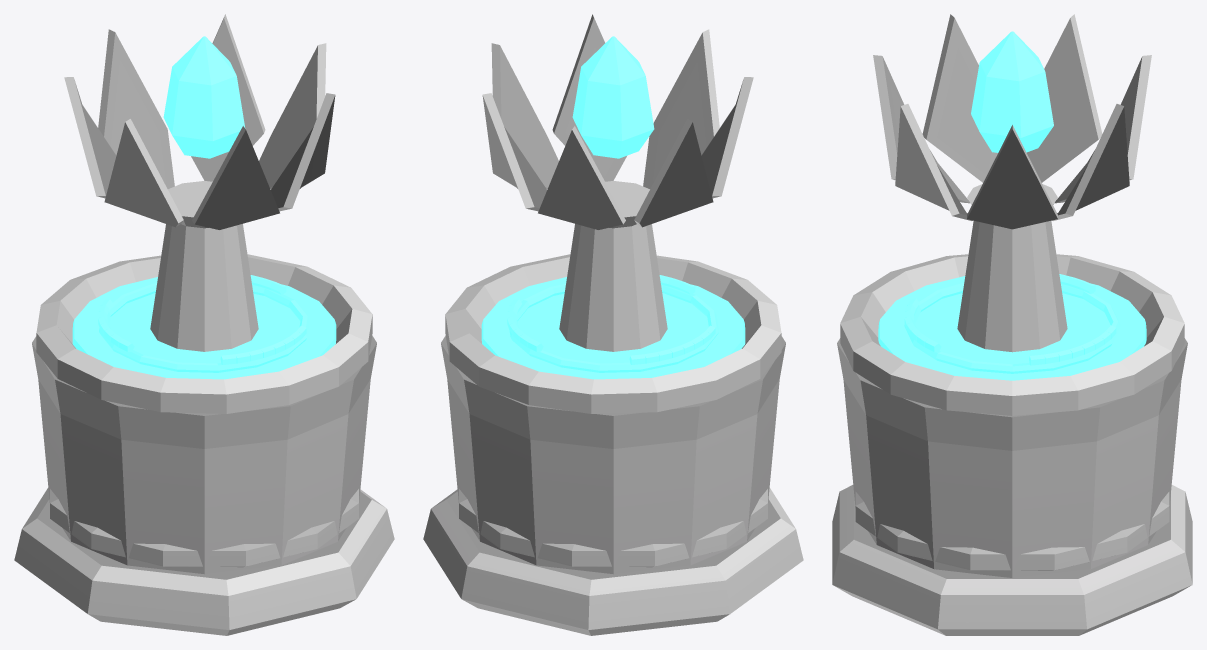
File: dew.glb
The picture shows the model from 3 angles, left to right: view 1: azimuth 30°, elevation 25°; view 2: azimuth 150°, elevation 25°; view 3: azimuth 270°, elevation 25°; orthographic projection.
Parts seen in each view (by area): view 1: dew.001; view 2: dew.001; view 3: dew.001.
Boxes of the visible parts, <box> form: dew.001: <box>14,14,394,635</box>; dew.001: <box>423,14,803,635</box>; dew.001: <box>832,14,1192,635</box>.
Bounding box in the file's own units: 1.11 × 1.82 × 1.11.
